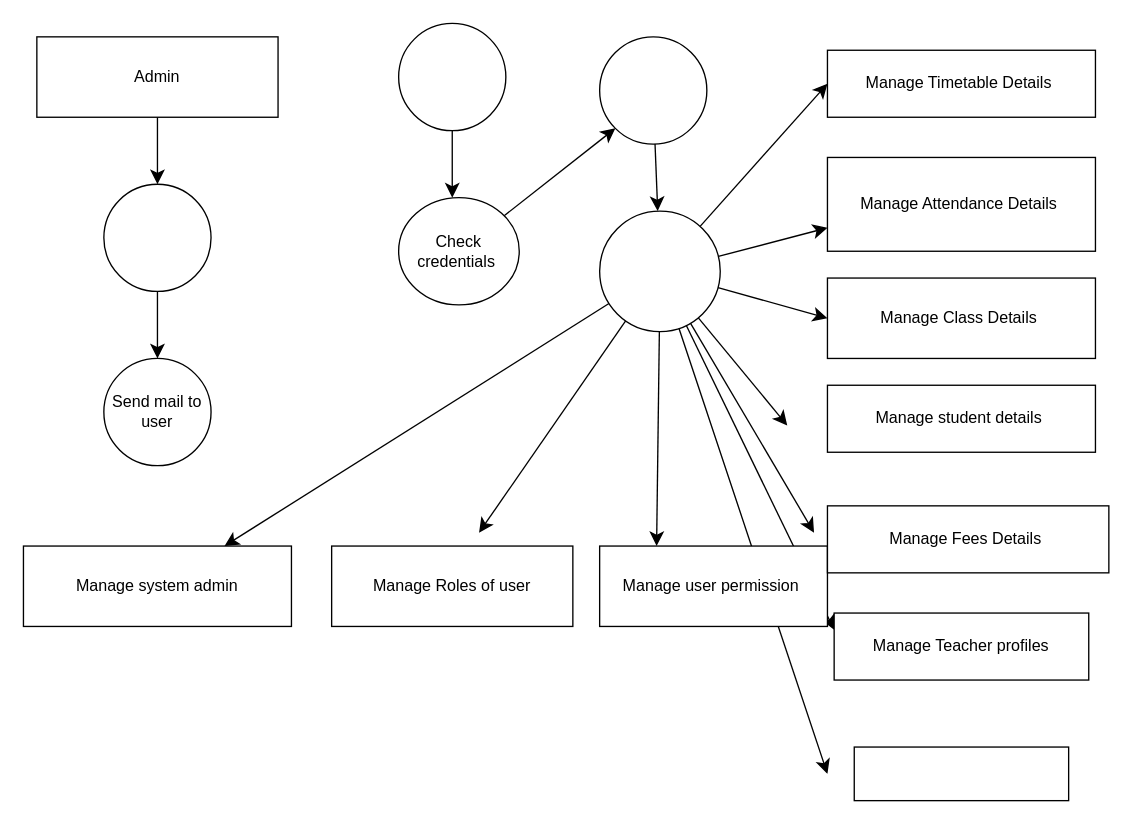
This 1132x824 diagram has some shape labels left out. The box of each missing label's shape, as (x1, y1, x2, y2) in pixels:
Check Roles of Access: (598, 36, 707, 144)
Forgot password: (103, 183, 211, 291)
Login to system: (397, 22, 506, 131)
Manage Modules: (598, 210, 720, 332)
Manage Reportss: (853, 746, 1069, 801)
